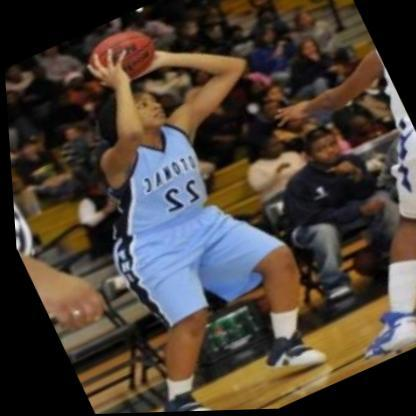basketball: (78, 13, 167, 90)
